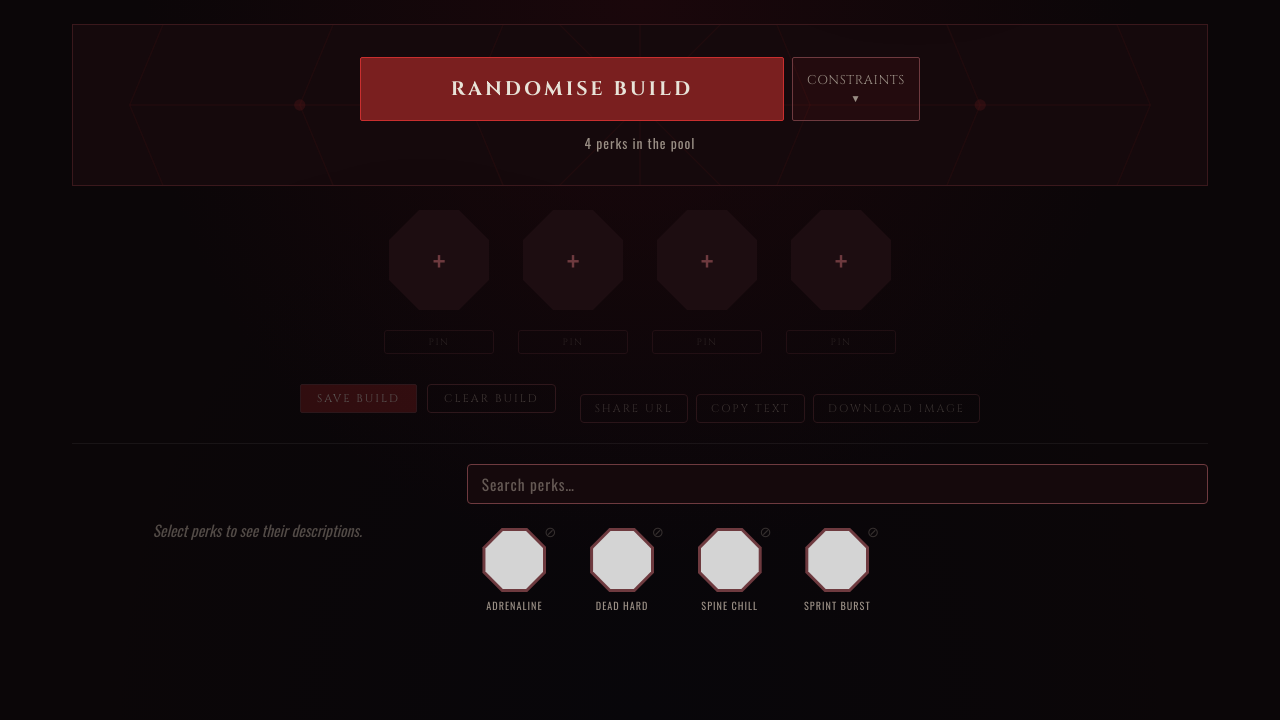
Test: BuildMaker — perk blacklist › clicking a ban button shows the activeConstraintCount badge in the Constraints drawer
What coordinates should you click on to do the following:
click the button named "Exclude Dead Hard from randomiser"
I would click on:
 (658, 532)
Its box is [646,520,670,544].
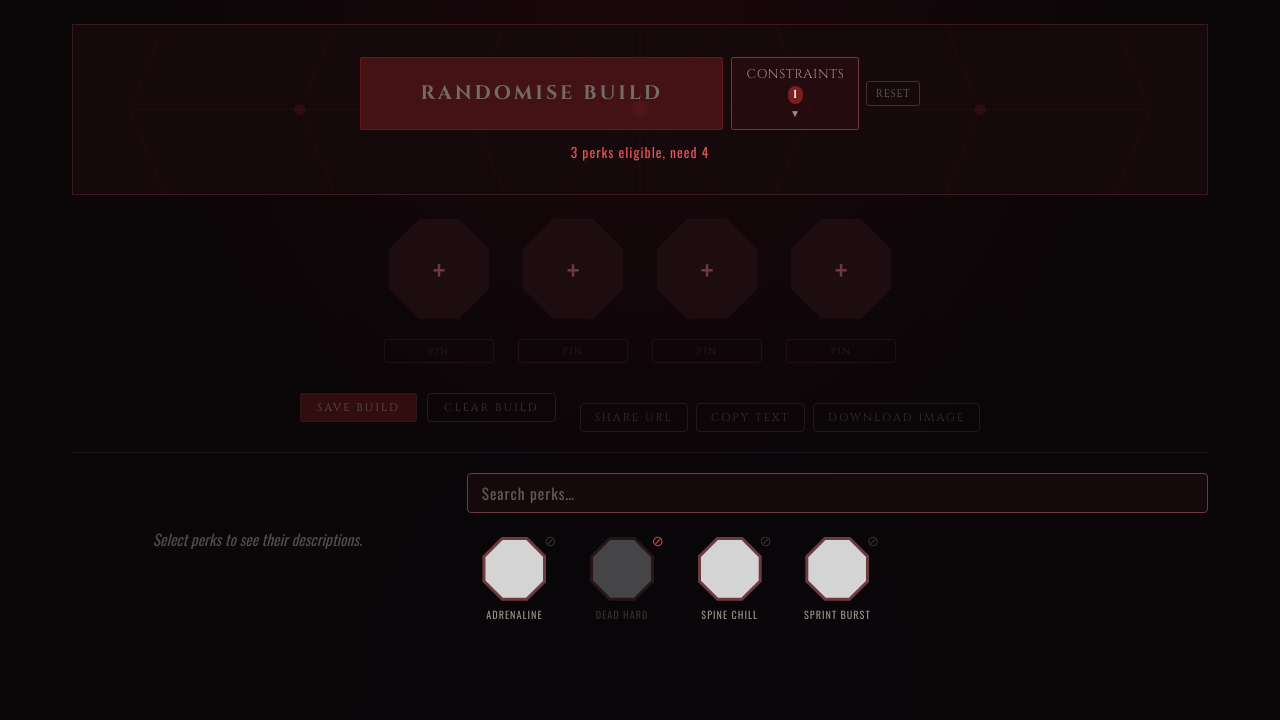
Expected: the button "Constraints 1 ▼" is shown, [731,57,860,130]
